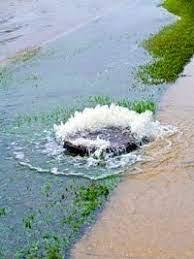drainage overflow-repair-: (36, 102, 174, 184)
